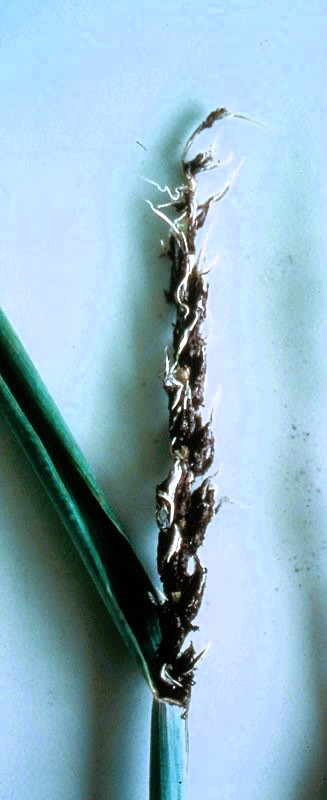Wheat Loose Smut: (132, 177, 249, 586)
